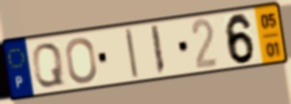2: (190, 17, 220, 72)
6: (224, 11, 259, 66)
I: (123, 26, 141, 81), (149, 23, 167, 77)
O: (64, 36, 99, 86)
Q: (30, 41, 66, 89)
